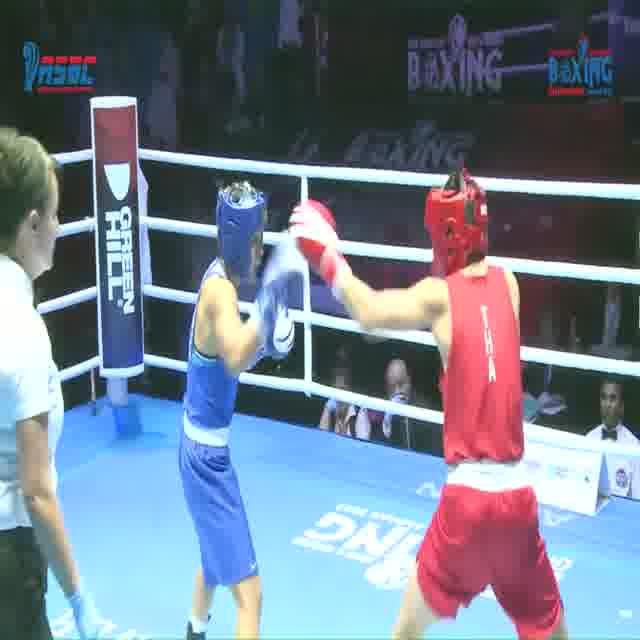blue-player: (178, 176, 308, 640)
red-player: (284, 160, 570, 640)
referee: (0, 113, 100, 640)
